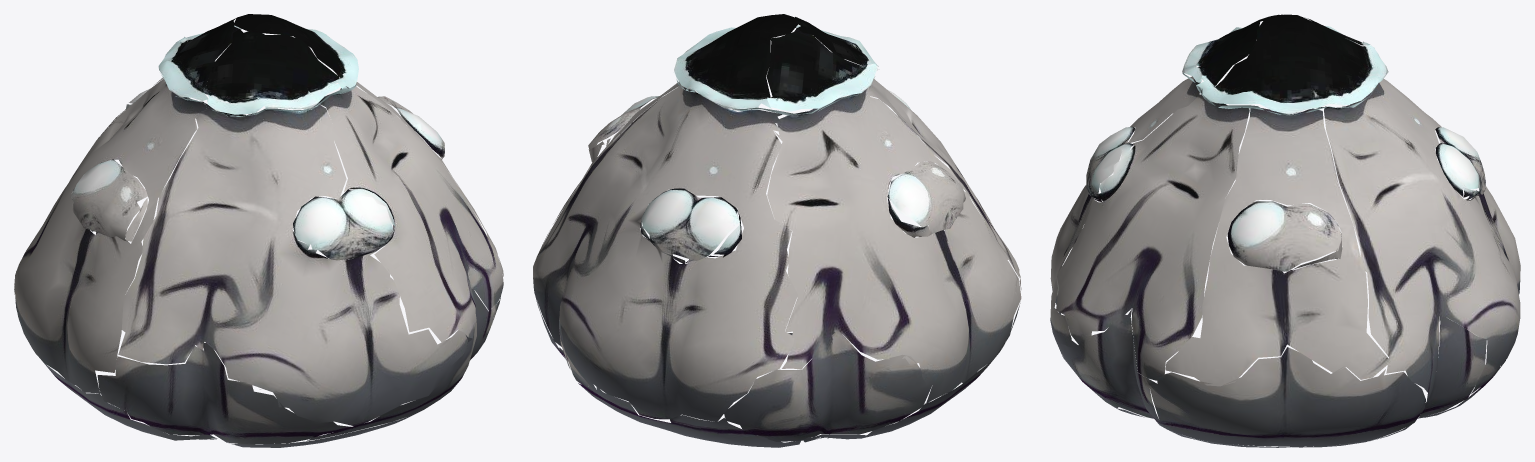
The model's file is dag_kaya.glb.
3 views of the same model, side by side, from view 1: azimuth 30°, elevation 25°; view 2: azimuth 150°, elevation 25°; view 3: azimuth 270°, elevation 25° (orthographic).
Parts seen in each view (by area): view 1: geometry_0; view 2: geometry_0; view 3: geometry_0.
Boxes of the visible parts, x1,y1,x2,y2 form: geometry_0: [14, 14, 503, 447]; geometry_0: [533, 14, 1021, 447]; geometry_0: [1050, 14, 1520, 447].
Size of the model in its own units: 0.999 by 0.8424 by 0.9991.
1 material, 1 textured.
